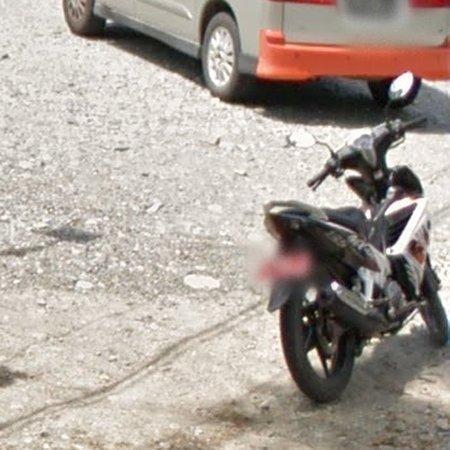motorcycles: (263, 118, 449, 403)
